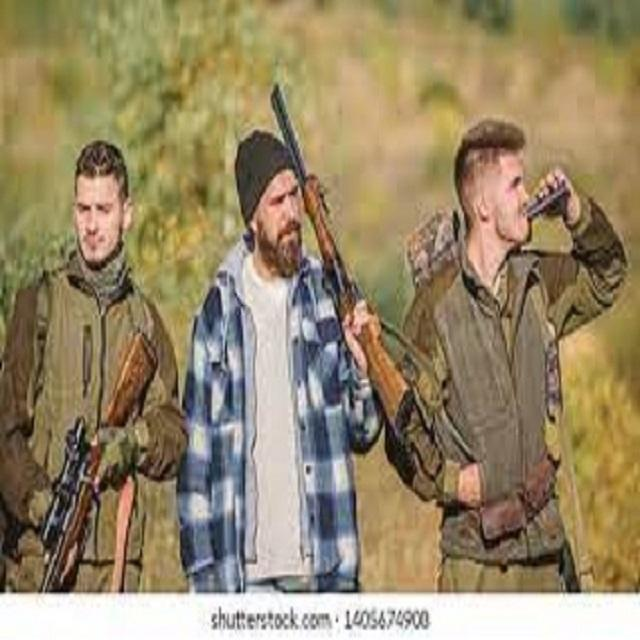gun: (253, 60, 438, 467), (10, 312, 184, 590)
poacher: (367, 101, 637, 588), (163, 98, 421, 588), (1, 101, 207, 590)
